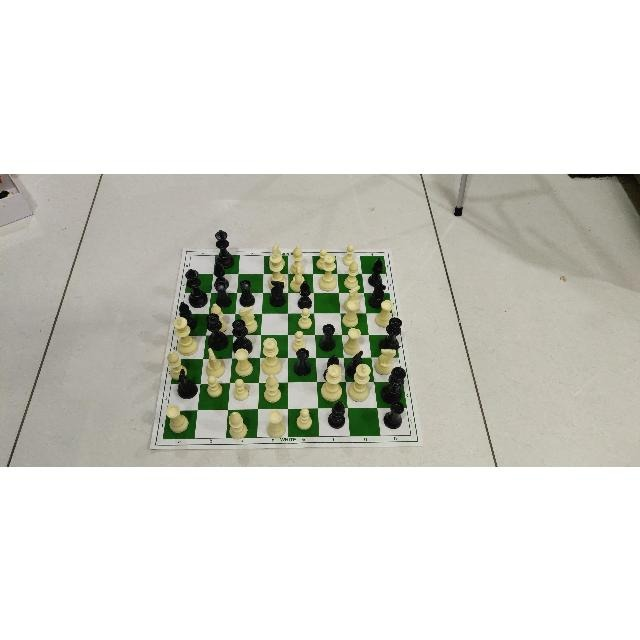black-bishop: (177, 300, 198, 331), (327, 399, 347, 429), (323, 353, 341, 383), (212, 259, 229, 290), (296, 279, 313, 309), (367, 256, 384, 286)
black-king: (380, 366, 406, 404), (185, 268, 209, 308), (215, 228, 235, 268)
black-knight: (176, 367, 198, 399), (345, 349, 365, 379), (367, 279, 387, 309), (269, 278, 287, 307)
black-queen: (204, 312, 229, 350), (378, 316, 403, 352), (231, 317, 253, 354)
black-rook: (382, 401, 405, 429), (213, 279, 233, 308), (317, 322, 336, 351), (294, 347, 312, 377), (238, 277, 255, 306)
white-bishop: (166, 349, 188, 380), (227, 410, 248, 440), (262, 373, 282, 403), (210, 302, 228, 332), (289, 244, 305, 274), (343, 259, 359, 289)
white-king: (172, 316, 199, 356), (347, 362, 371, 402), (267, 252, 287, 290)
white-knight: (204, 346, 226, 378), (373, 346, 397, 375), (237, 304, 259, 334), (288, 260, 307, 292), (342, 284, 362, 312), (268, 240, 286, 269)
white-pawn: (206, 374, 224, 398), (232, 377, 250, 401), (295, 406, 312, 429), (291, 330, 307, 352), (297, 306, 312, 329), (315, 247, 330, 269), (341, 242, 355, 265)
white-queen: (260, 336, 284, 376), (320, 362, 342, 402), (318, 252, 338, 291)
white-rook: (164, 404, 190, 434), (265, 409, 286, 437), (234, 347, 253, 377), (342, 299, 361, 327), (376, 298, 394, 327), (343, 327, 361, 355)
